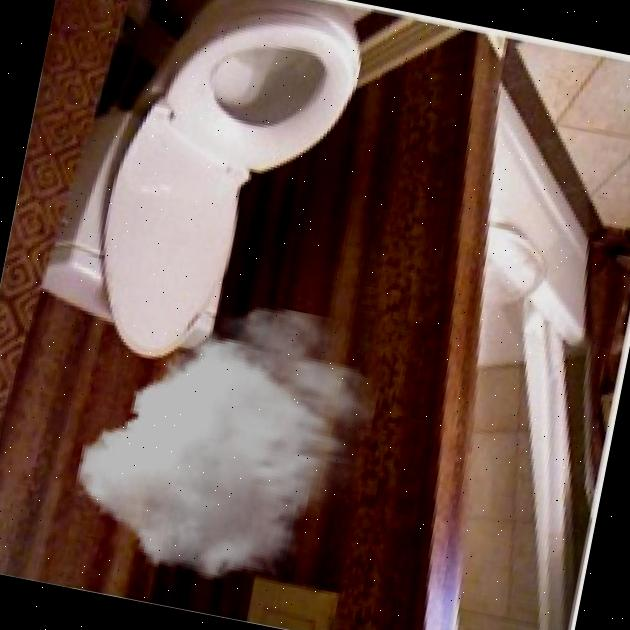smoke: (62, 276, 391, 605)
